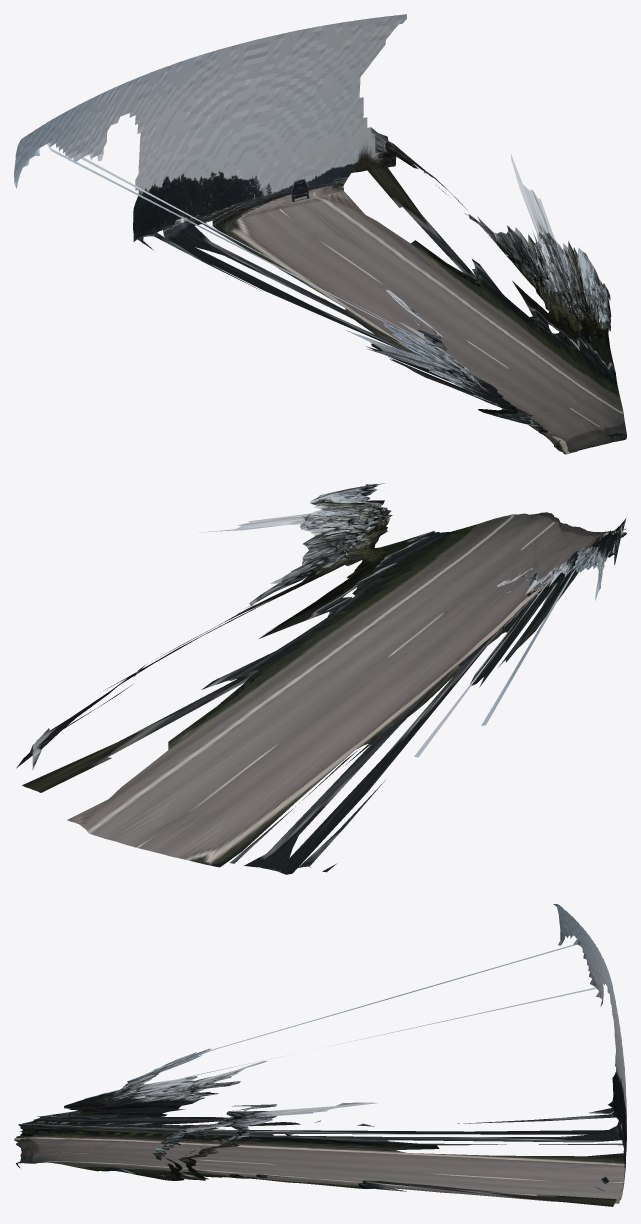
The picture shows the model from 3 angles, top to bottom: view 1: azimuth 30°, elevation 25°; view 2: azimuth 150°, elevation 25°; view 3: azimuth 270°, elevation 25°; orthographic projection. The views are drawn at different scales.
Visible parts, largest first — view 1: defaultobject; view 2: defaultobject; view 3: defaultobject.
Part boxes in pixels (<box>): defaultobject: <box>14,14,626,454</box>; defaultobject: <box>16,483,626,874</box>; defaultobject: <box>14,904,626,1206</box>.
Size of the model in its own units: 30.95 by 13.18 by 44.63.
1 material, 1 textured.
